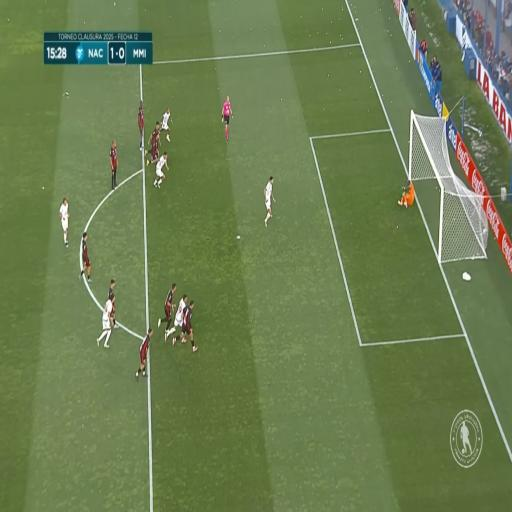Goalkeeper: (399, 180, 416, 204)
Player: (156, 283, 177, 333), (177, 300, 195, 352), (167, 295, 188, 338), (98, 297, 114, 349), (136, 330, 153, 378), (263, 175, 275, 227), (80, 233, 91, 281), (154, 153, 169, 188), (108, 278, 118, 328), (59, 199, 70, 244), (146, 122, 161, 155), (110, 142, 118, 190), (138, 100, 145, 152), (160, 109, 171, 140), (150, 134, 160, 166)
Referee: (222, 94, 232, 140)
